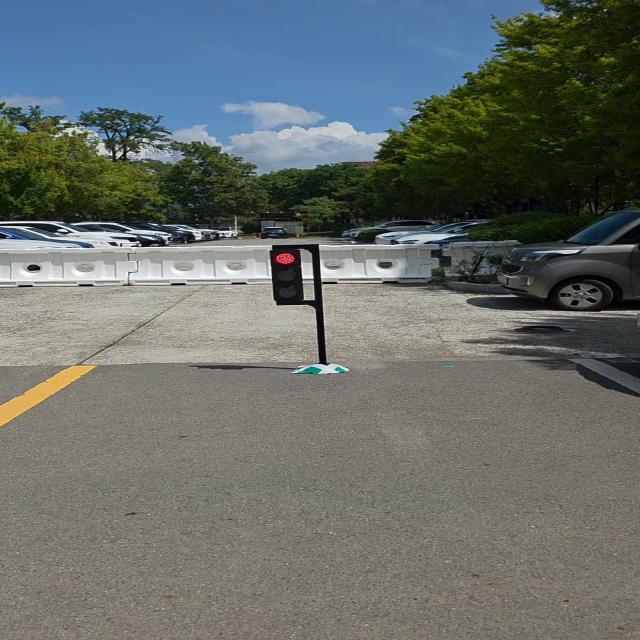red: (263, 245, 310, 307)
